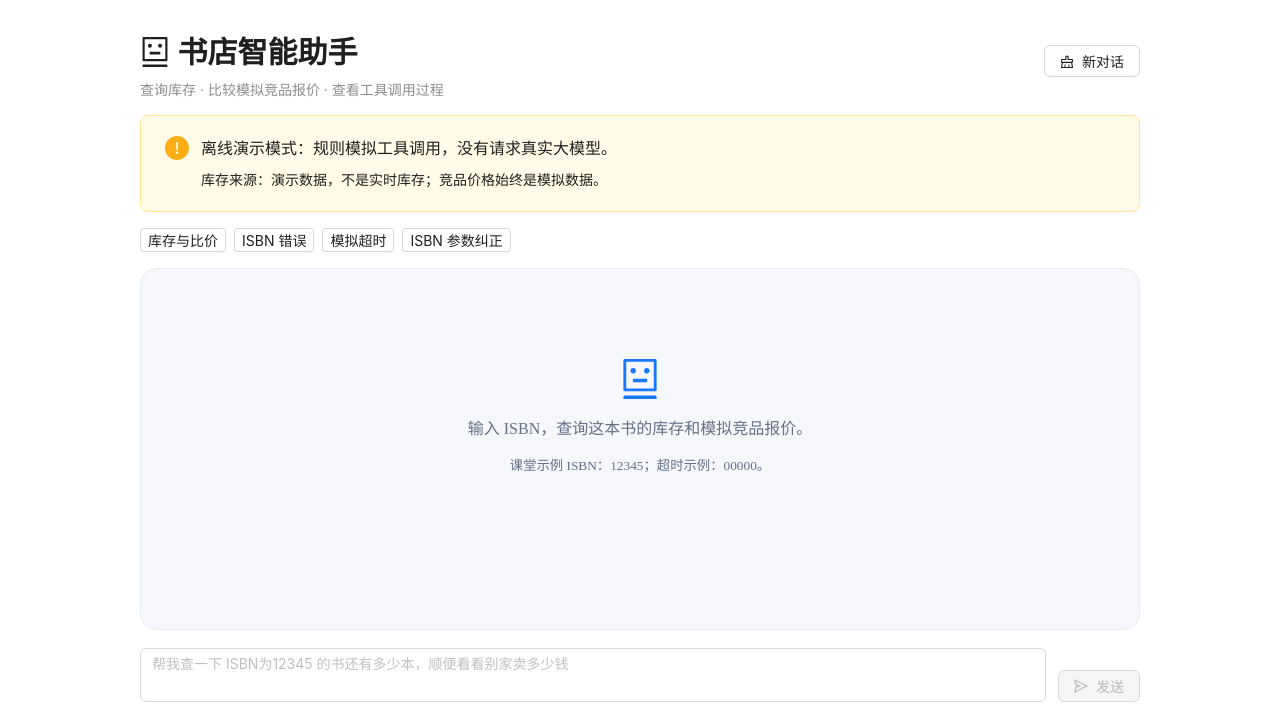
模型API配置错误显示可读错误，允许继续提问
expect the text "离线演示模式：规则模拟工具调用，没有请求真实大模型。" is shown: met, box [201,138,617,158]
Type "ISBN为12345库存" into the text box named "用户问题" at (593, 675), box [140,648,1046,702]
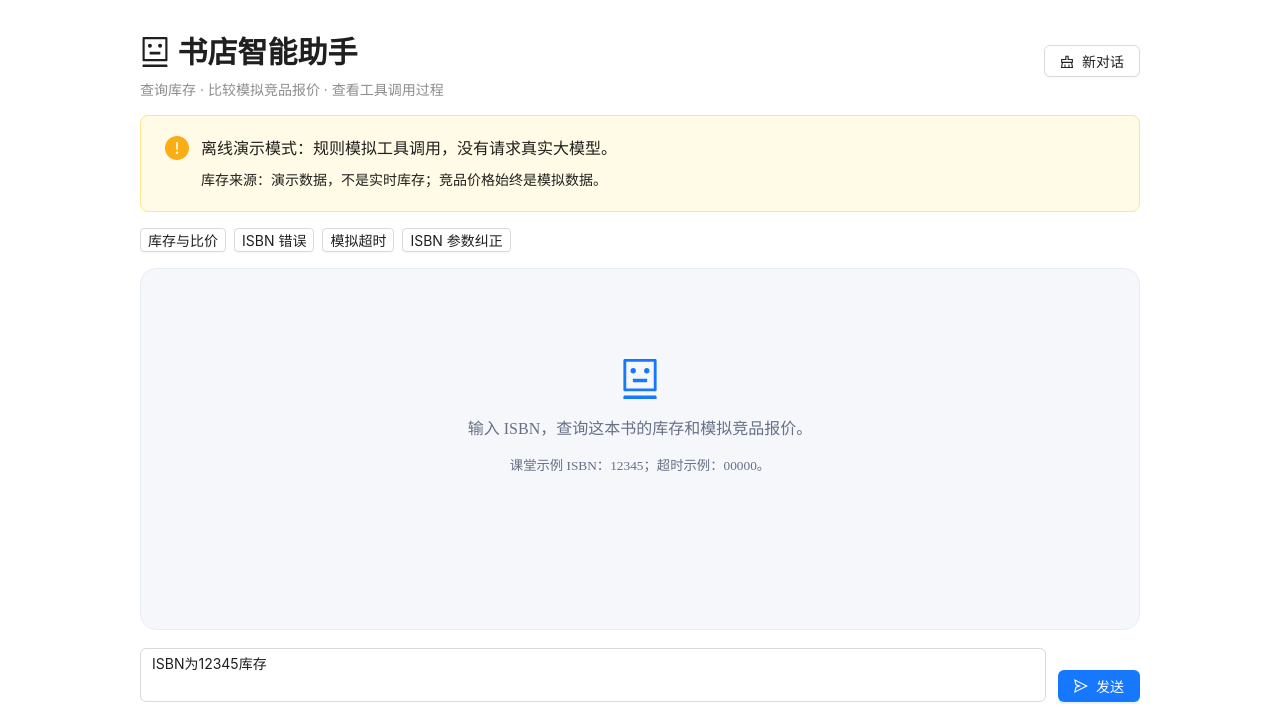
Click the button "发送" at (1099, 686), box [1058,670,1140,702]
(page scrolled)
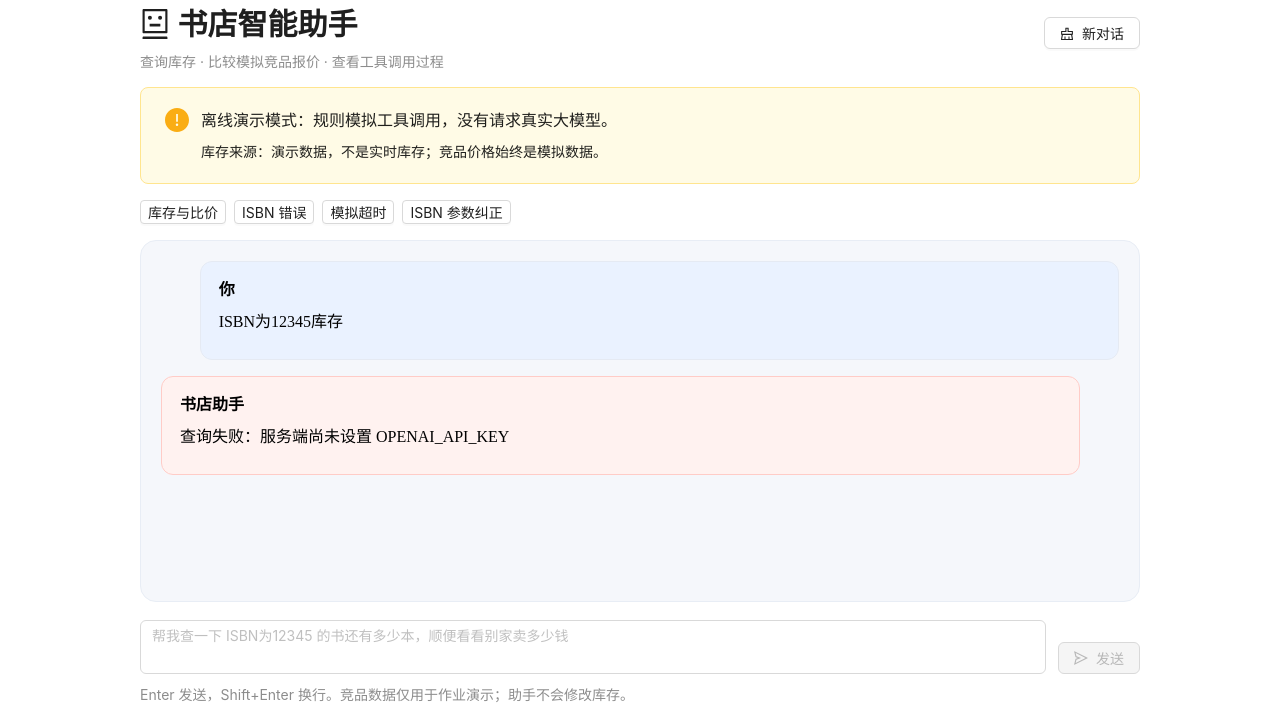
expect the text box named "用户问题" is enabled: met, box [140,620,1046,674]
expect the text "查询失败：服务端尚未设置 OPENAI_API_KEY" is shown: met, box [180,428,509,445]
